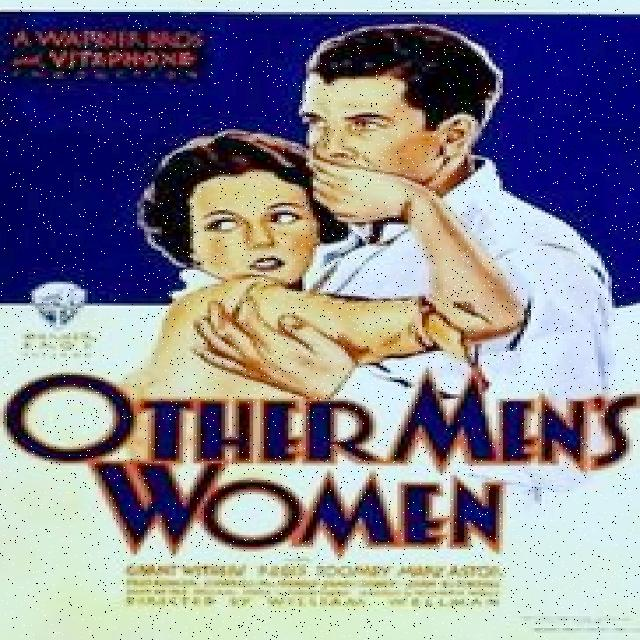movie-judul: (2, 364, 640, 555), (112, 559, 532, 612)
picture: (5, 10, 624, 397)
